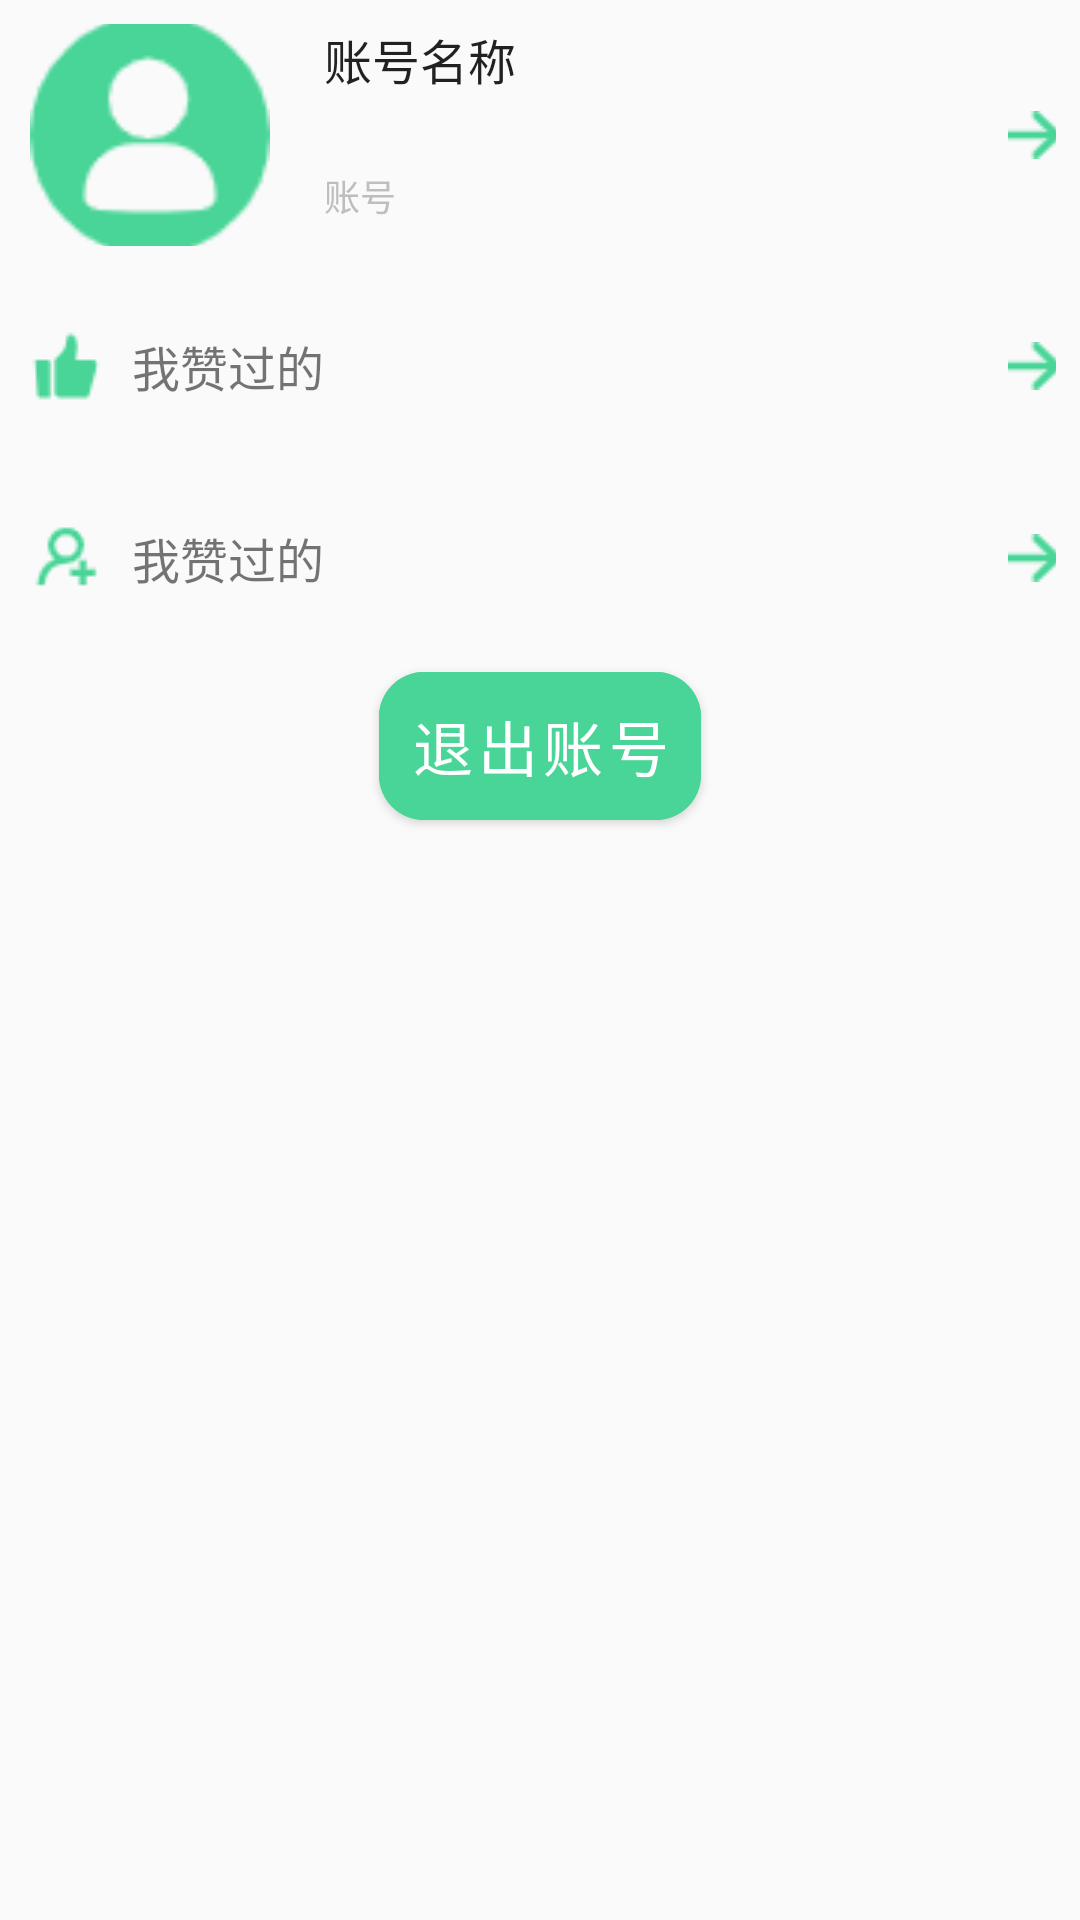

Screen size 1080w x 1920h. Icon name, then its box in pixels as (x1,y1,x2,y2):
good: (33,332,99,400)
head: (30,24,270,246)
operation follow: (35,527,97,586)
